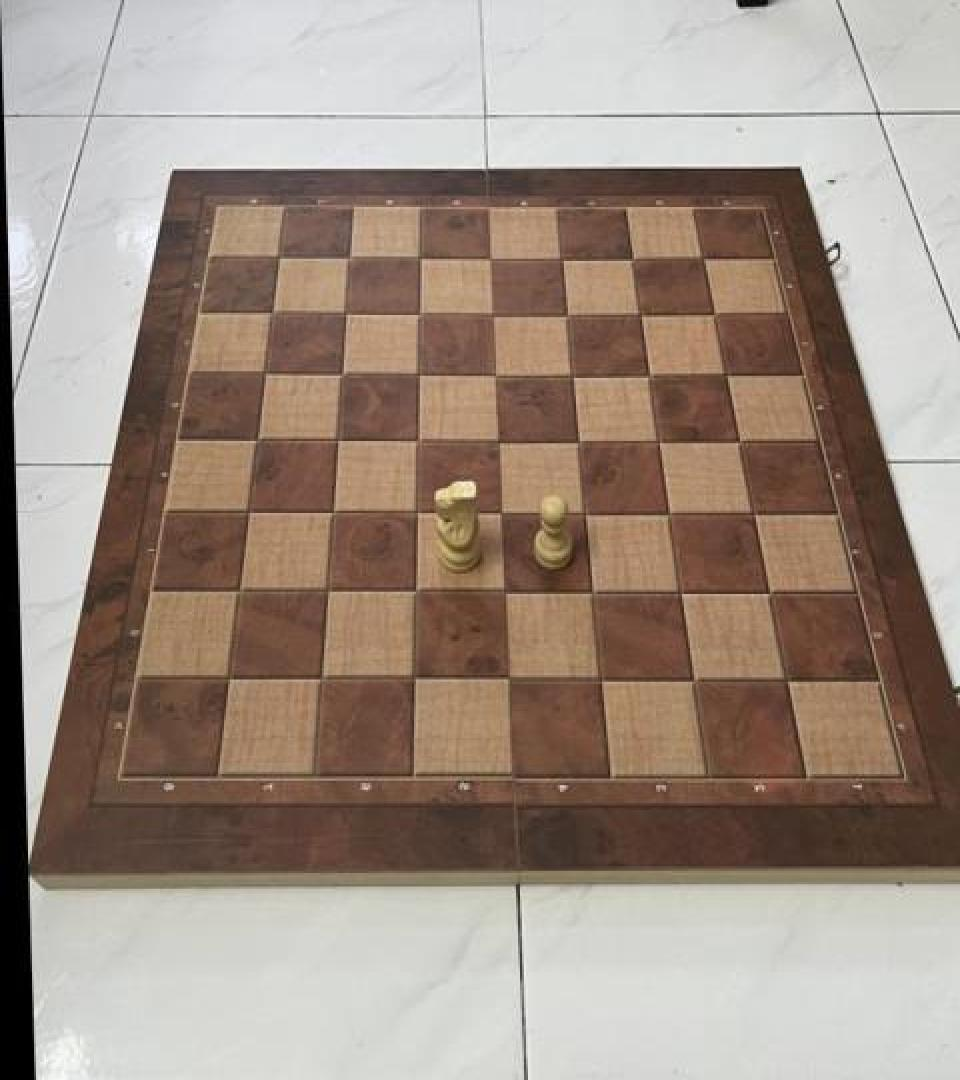xcorner: (212, 661, 244, 698), (305, 661, 337, 698), (398, 661, 430, 698), (491, 661, 523, 698), (584, 661, 616, 698), (677, 661, 709, 698), (770, 661, 802, 698), (264, 240, 296, 276), (334, 240, 366, 276), (405, 240, 437, 276), (476, 240, 508, 276), (547, 240, 579, 276), (618, 240, 650, 276), (688, 240, 720, 276), (257, 295, 289, 331), (331, 295, 363, 331), (404, 295, 436, 331), (478, 295, 510, 331), (552, 295, 584, 331), (625, 295, 657, 331), (699, 295, 731, 331), (249, 356, 281, 392), (326, 356, 358, 392), (403, 356, 435, 392), (480, 356, 512, 392), (557, 356, 589, 392), (634, 356, 666, 392), (711, 356, 743, 392), (241, 422, 273, 458), (322, 422, 354, 458), (402, 422, 434, 458), (482, 422, 514, 458), (563, 422, 595, 458), (643, 422, 675, 458), (724, 422, 756, 458), (233, 494, 265, 530), (317, 494, 349, 530), (401, 494, 433, 530), (485, 494, 517, 530), (569, 494, 601, 530), (653, 494, 685, 530), (738, 494, 770, 530), (223, 574, 255, 610), (311, 574, 343, 610), (400, 574, 432, 610), (488, 574, 520, 610), (576, 574, 608, 610), (665, 574, 697, 610), (753, 574, 785, 610)
